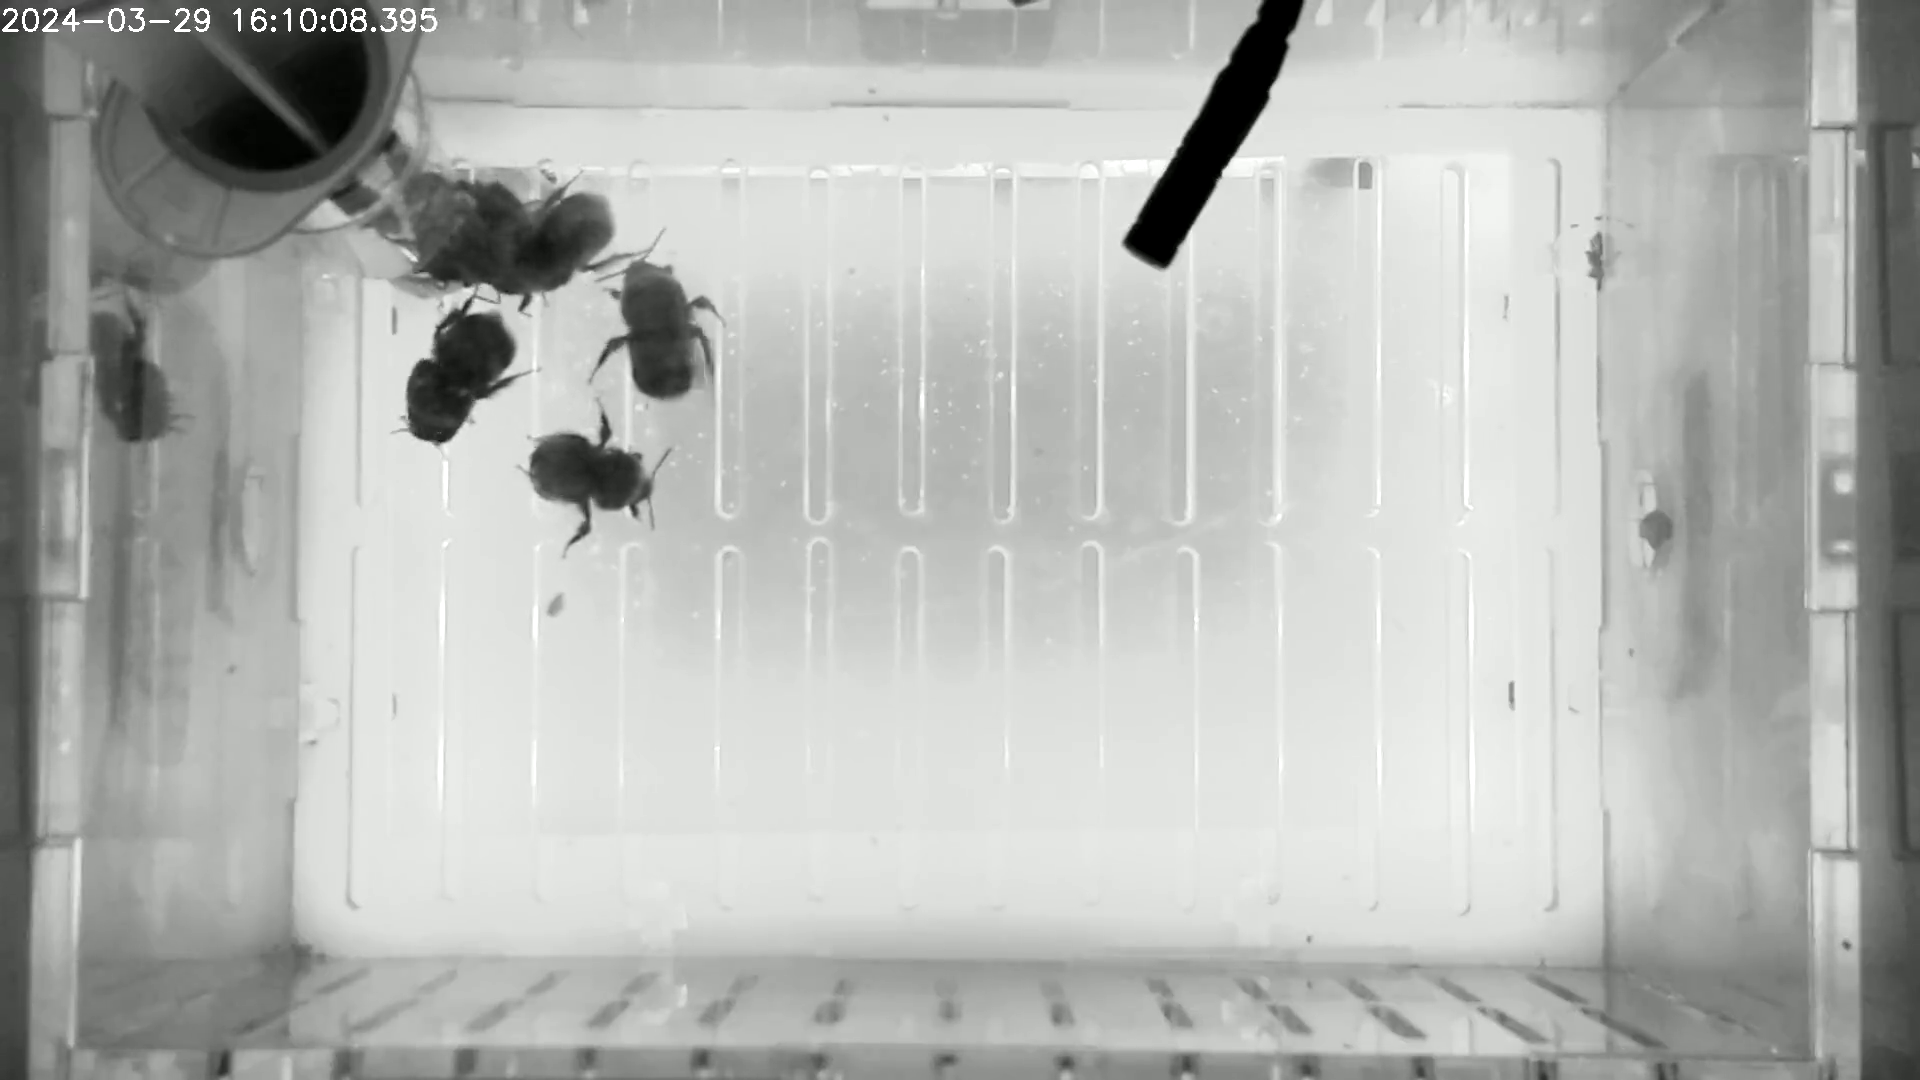bee: (580, 225, 733, 421), (514, 388, 680, 559), (378, 293, 545, 459), (502, 181, 628, 307), (438, 171, 526, 299)
feeder: (272, 138, 497, 293)
